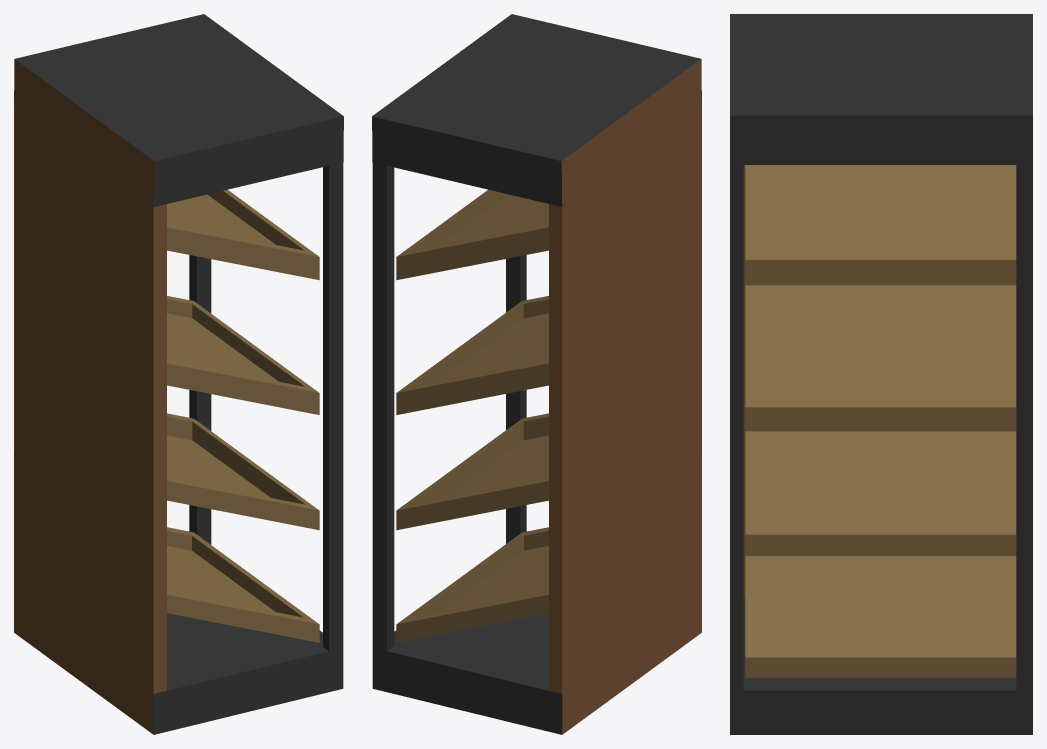
The model's file is S.BakeryShelf.fbx.
The picture shows the model from 3 angles, left to right: view 1: azimuth 30°, elevation 25°; view 2: azimuth 150°, elevation 25°; view 3: azimuth 270°, elevation 25°; orthographic projection. The views are drawn at different scales.
Visible parts, largest first — view 1: Cube.001; view 2: Cube.001; view 3: Cube.001.
Boxes of the visible parts, left/top/right/bottom form: Cube.001: left=14, top=14, right=343, bottom=734; Cube.001: left=372, top=14, right=701, bottom=734; Cube.001: left=730, top=14, right=1032, bottom=734.
Bounding box in the file's own units: 237 × 684 × 302.
